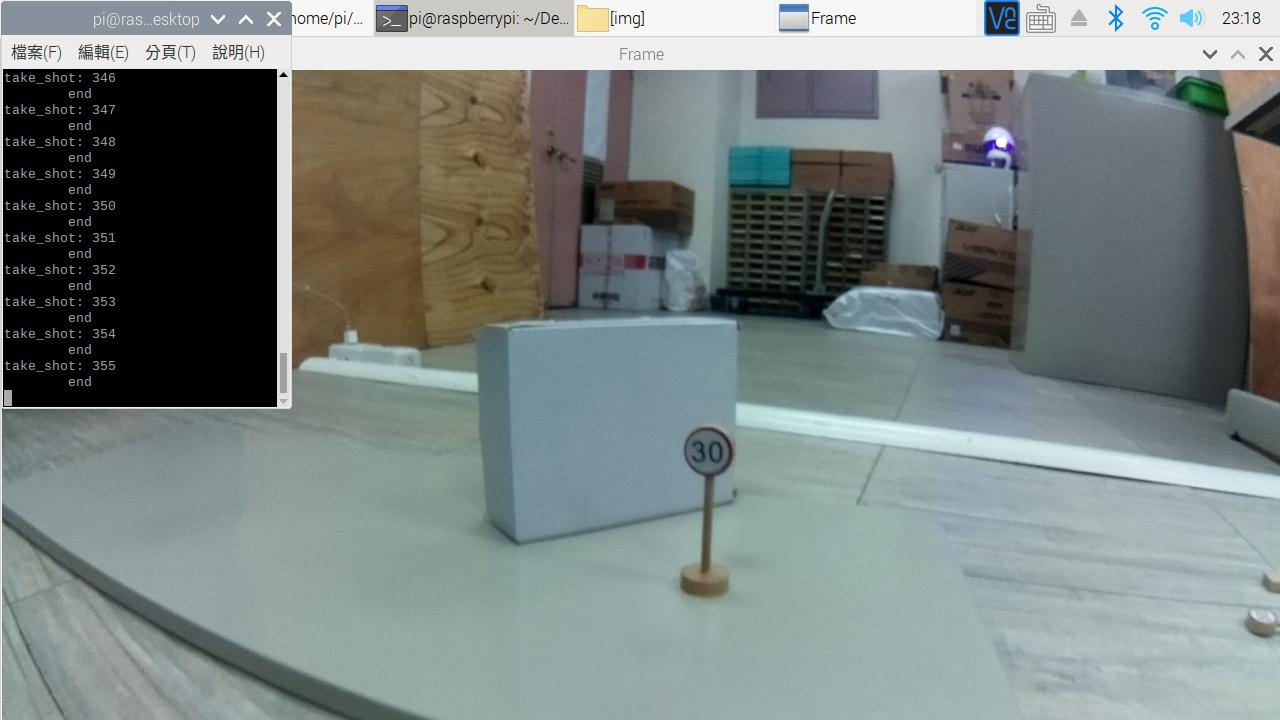Speed30: (664, 415, 754, 491)
